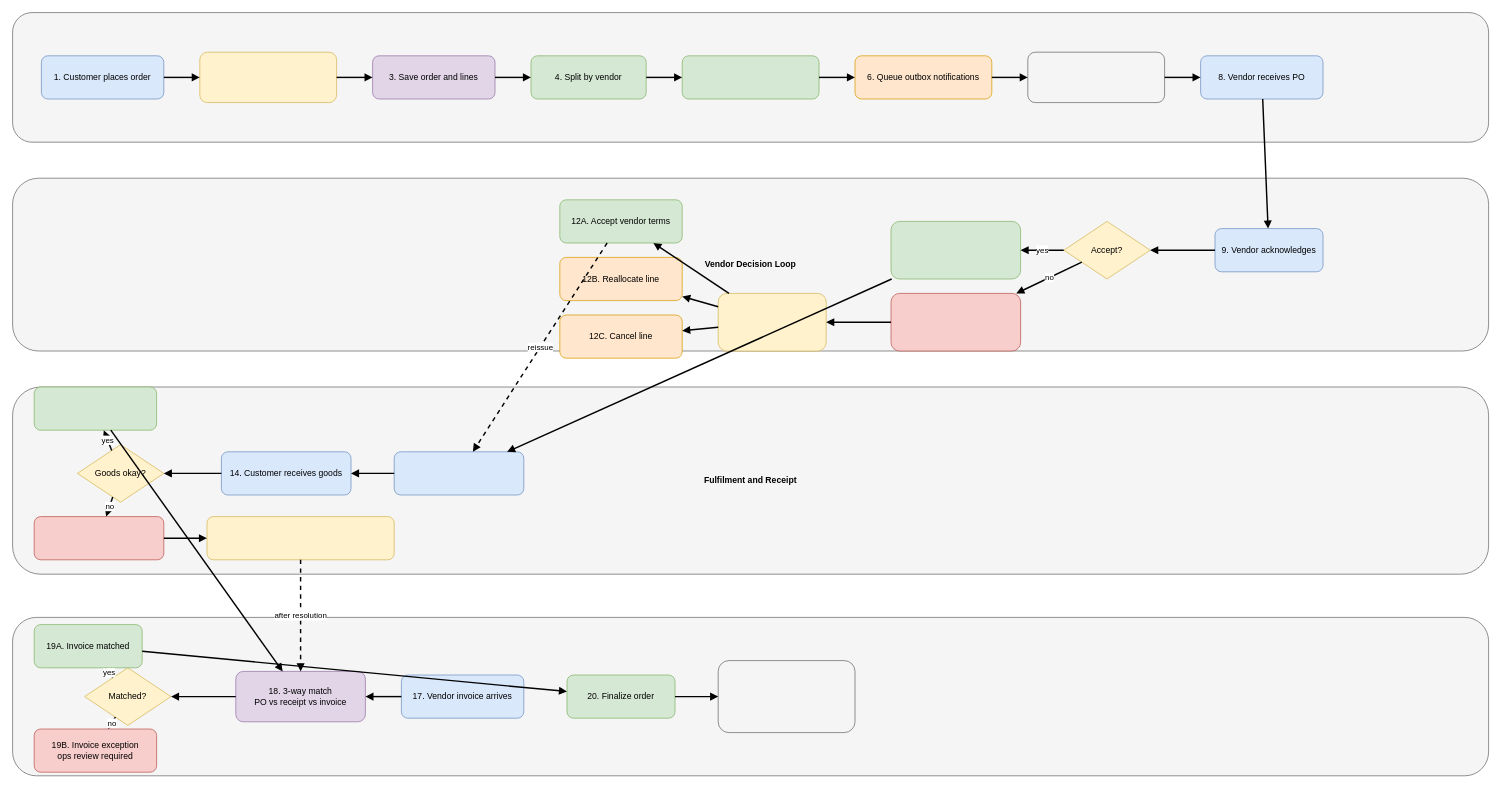
Some shapes in this 1501 by 788 pixel diagram are drawn without their labels. Here are the shapes that lost their labels. From the top down, the centre of each, then its label:
the point at 268,77: 2. Auth + RBAC + OPA validate request
the point at 750,77: 5. Create vendor-specific POs
the point at 1096,77: 7. Publish email and vendor portal data
the point at 955,250: 10A. PO accepted line ready to ship
the point at 771,322: 11. Ops reviews
the point at 955,322: 10B. Qty / price / reject create vendor dispute
the point at 95,408: 15A. Receipt posted line becomes received
the point at 458,473: 13. Vendor ships accepted lines
the point at 98,538: 15B. Customer dispute short or damaged receipt
the point at 300,538: 16. Ops resolves customer claim accept / settlement / reject / close as received
the point at 786,696: End states completed partially completed cancelled line reallocated line
